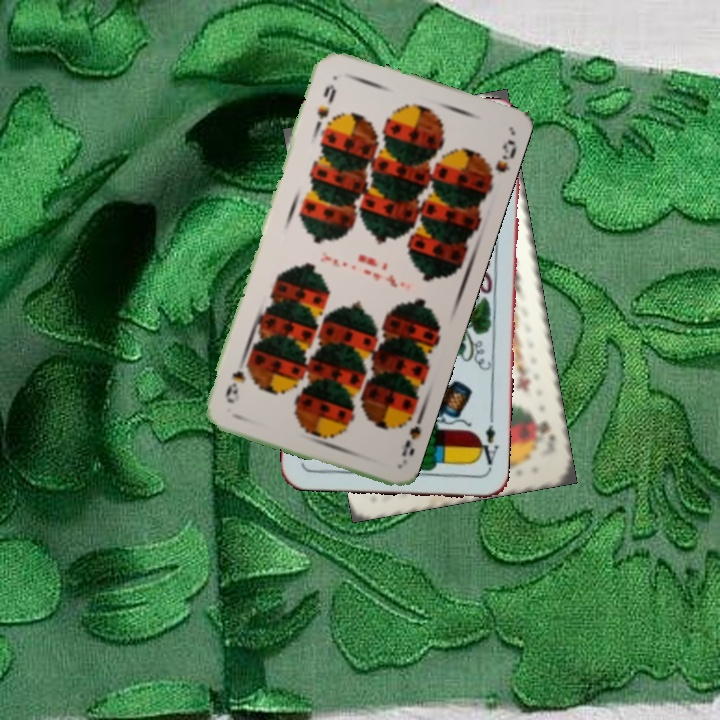EA: (473, 413, 501, 473)
S9: (396, 406, 427, 459), (312, 80, 339, 132)
SK: (529, 408, 558, 442)
